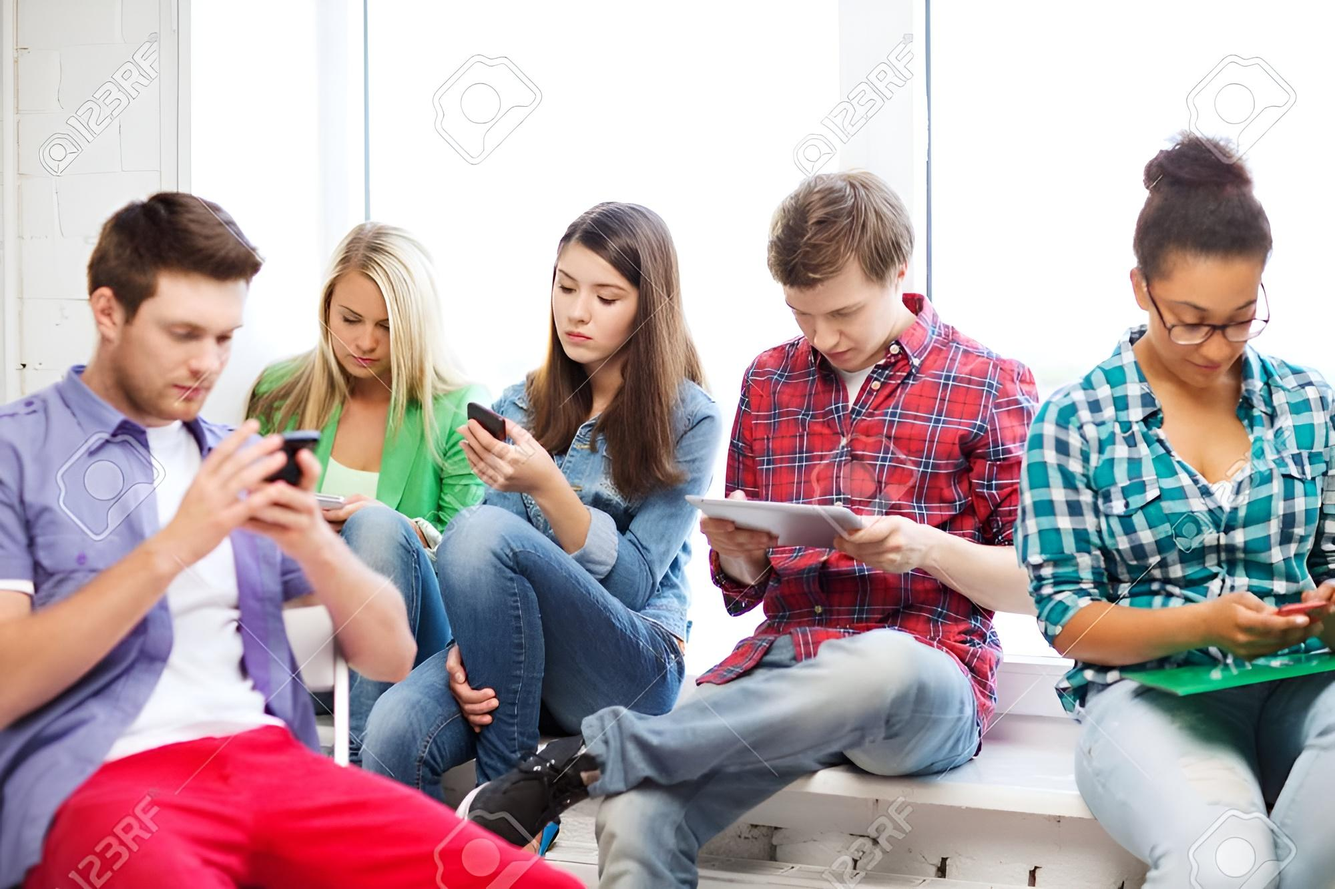phone: (0, 193, 415, 696), (1019, 135, 1335, 664), (693, 174, 1051, 632), (449, 198, 714, 602), (248, 222, 467, 535)
